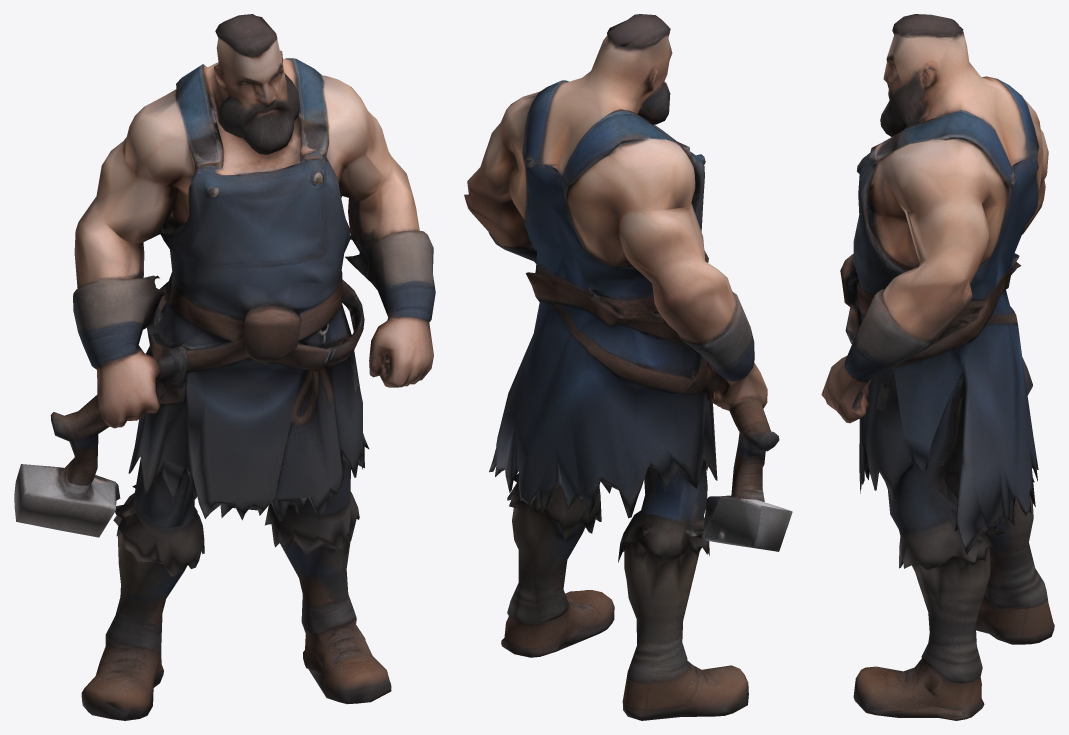
Rendered from npc_smith.glb.
3 views of the same model, side by side, from view 1: azimuth 30°, elevation 25°; view 2: azimuth 150°, elevation 25°; view 3: azimuth 270°, elevation 25° (orthographic). The views are drawn at different scales.
Bounding box in the file's own units: 1.11 × 2 × 0.6568.
1 material, 1 textured.
